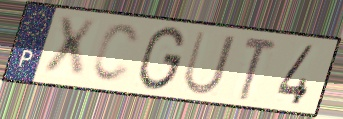4: (274, 44, 318, 106)
C: (89, 22, 141, 86)
G: (134, 25, 188, 93)
T: (238, 34, 280, 103)
U: (180, 29, 238, 98)
X: (41, 15, 100, 81)
